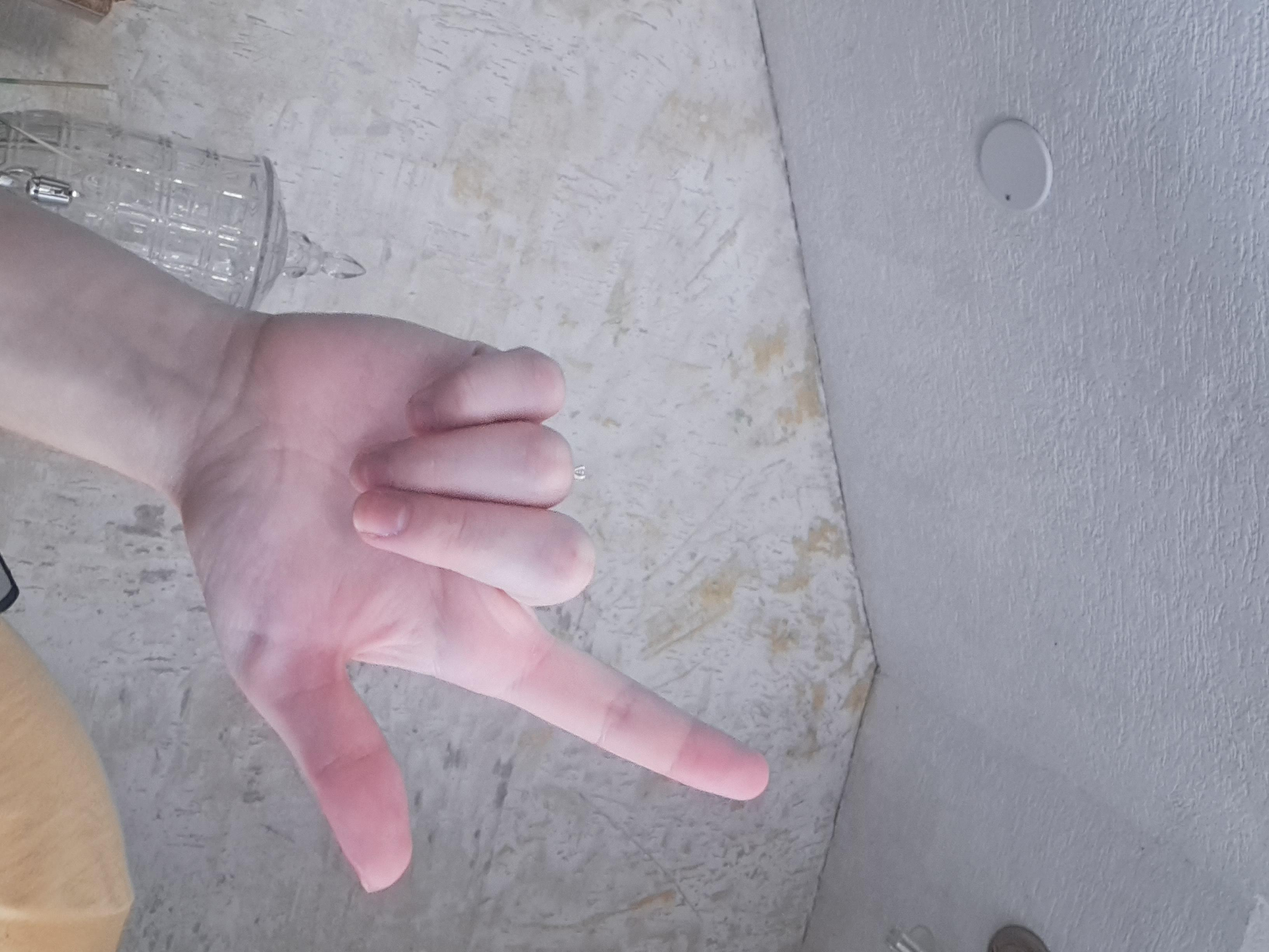L: (394, 356, 1203, 855)
